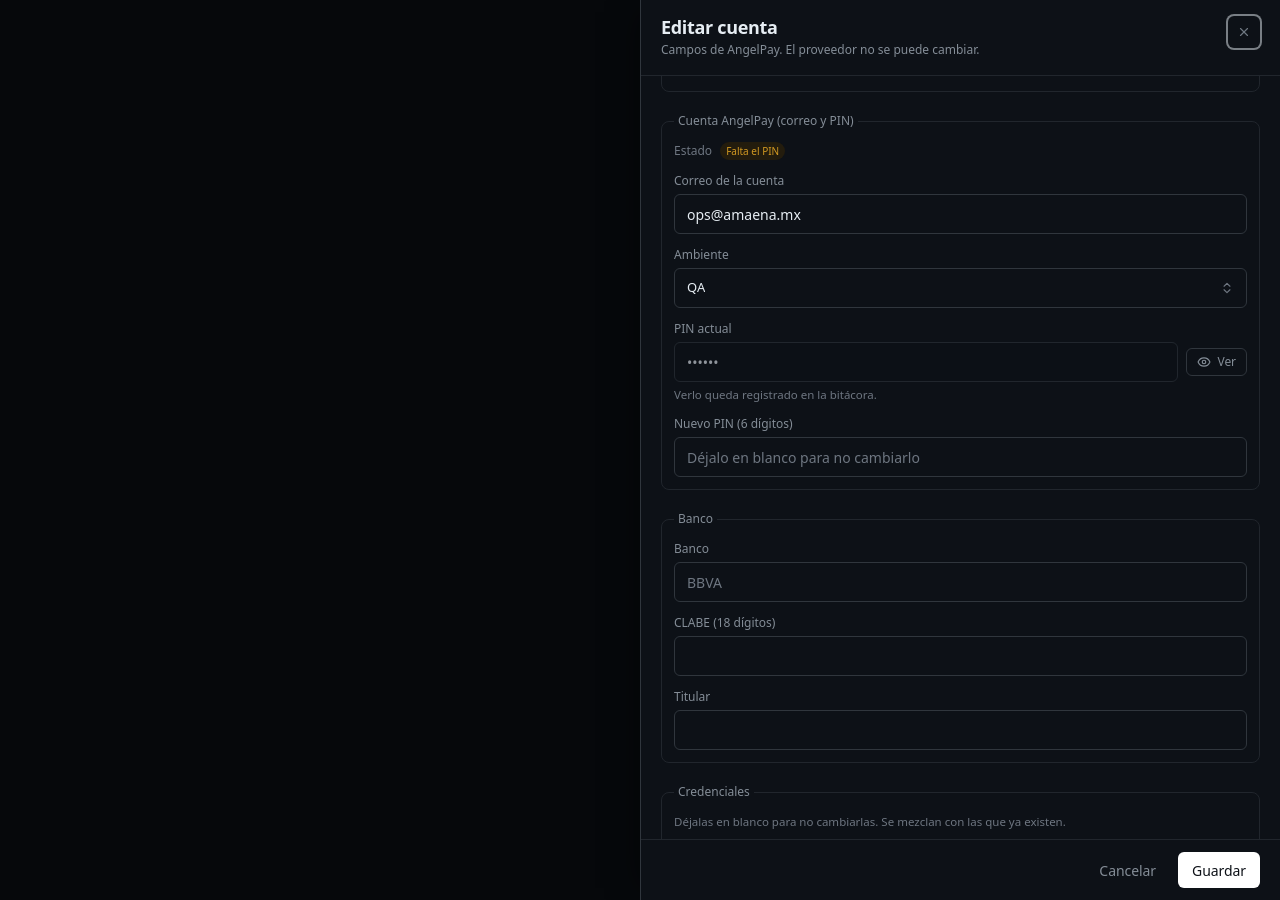
Test case: MerchantEditDrawer — cuenta AngelPay (correo y PIN) › un PIN nuevo de 4 dígitos no dispara ninguna petición
(page scrolled)
Type "1234" into the field labelled "Nuevo PIN (6 dígitos)" at (960, 457), box [674, 437, 1247, 477]
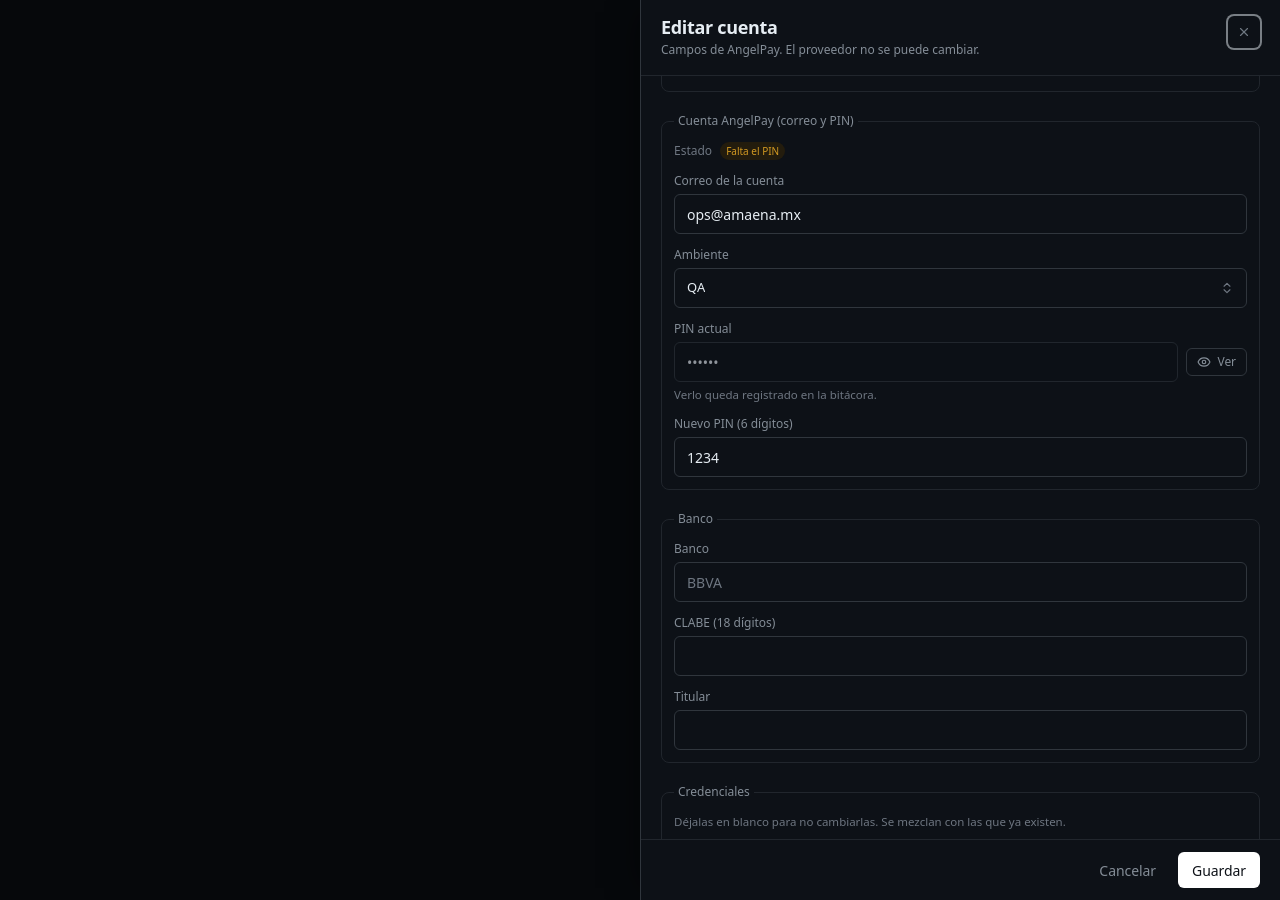
Click the button "Guardar" at (1219, 870), box [1178, 852, 1260, 888]
(page scrolled)
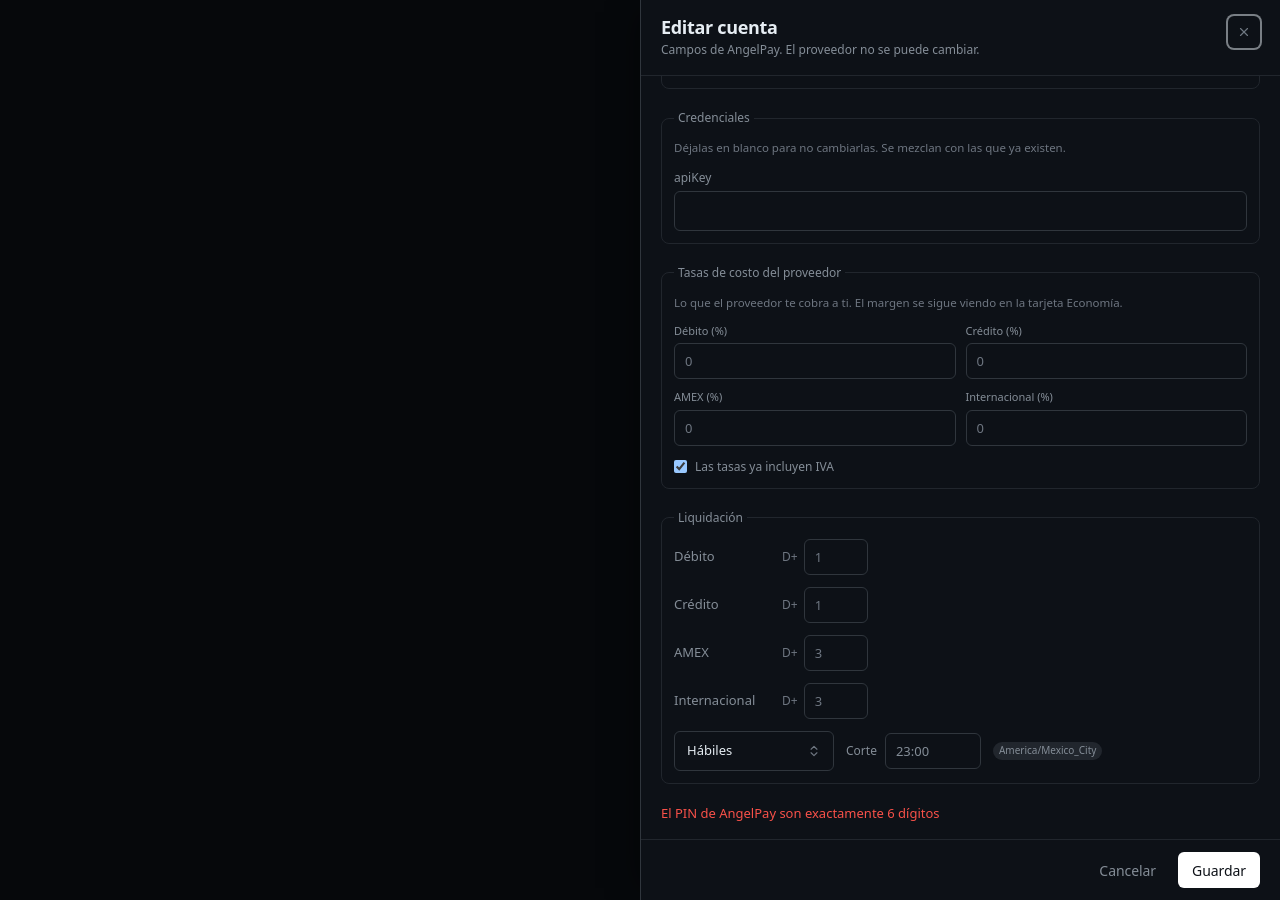
Check: the message shows "6 dígitos", box [661, 804, 940, 822]
